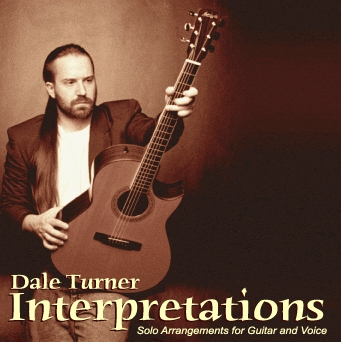guitar: (48, 7, 224, 294)
